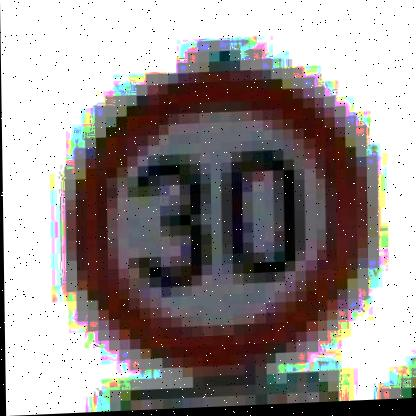Speed Limit -30-: (61, 62, 377, 376)
